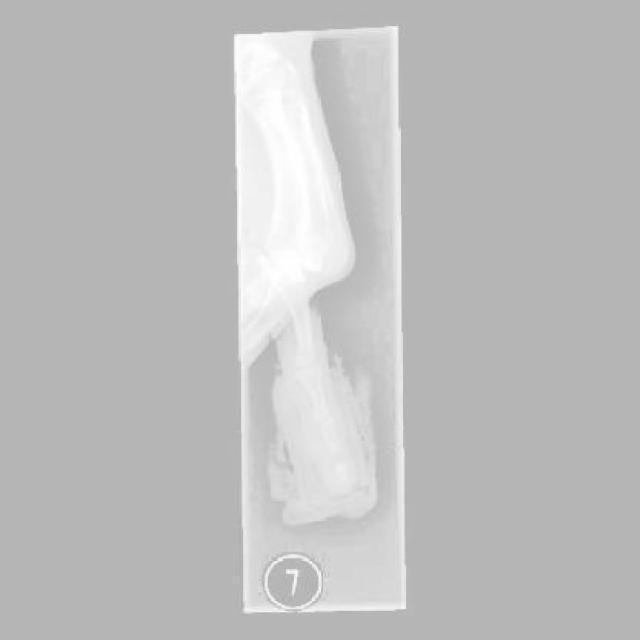Fracture: (329, 446, 354, 471)
